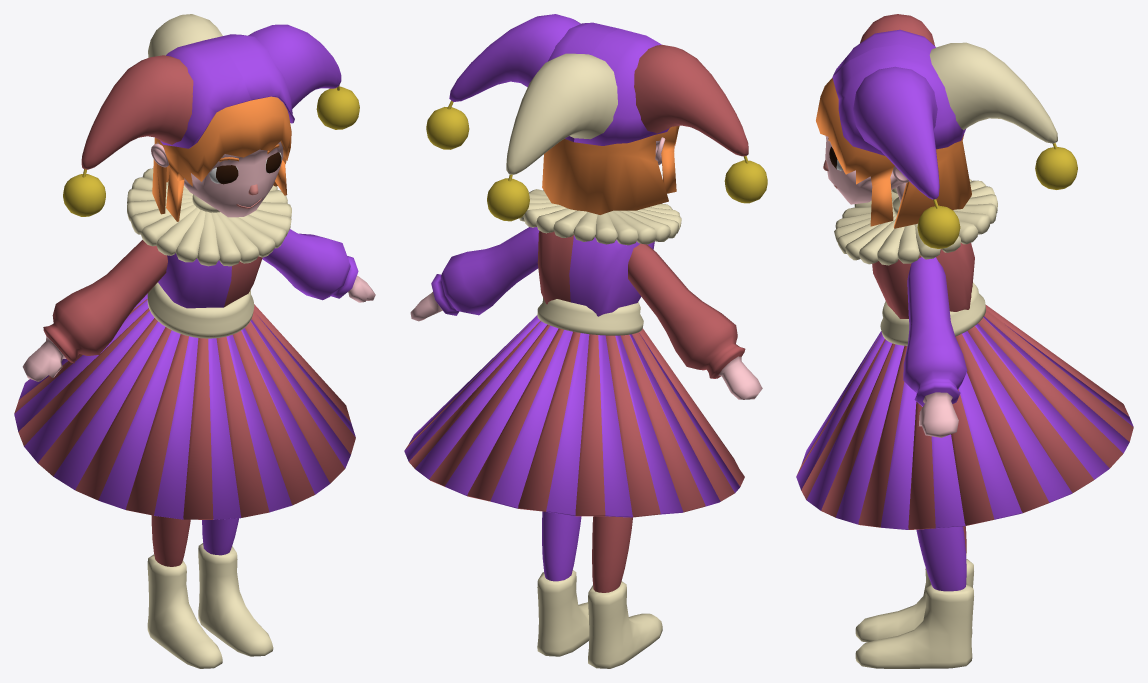
File: Player.glb
3 views of the same model, side by side, from view 1: azimuth 30°, elevation 25°; view 2: azimuth 150°, elevation 25°; view 3: azimuth 270°, elevation 25° (orthographic).
Visible parts, largest first — view 1: Player; view 2: Player; view 3: Player.
Boxes of the visible parts, x1,y1,x2,y2 form: Player: (14,14,375,668); Player: (404,14,767,668); Player: (796,14,1133,668).
Size of the model in its own units: 0.8339 by 1.4 by 0.7038.
